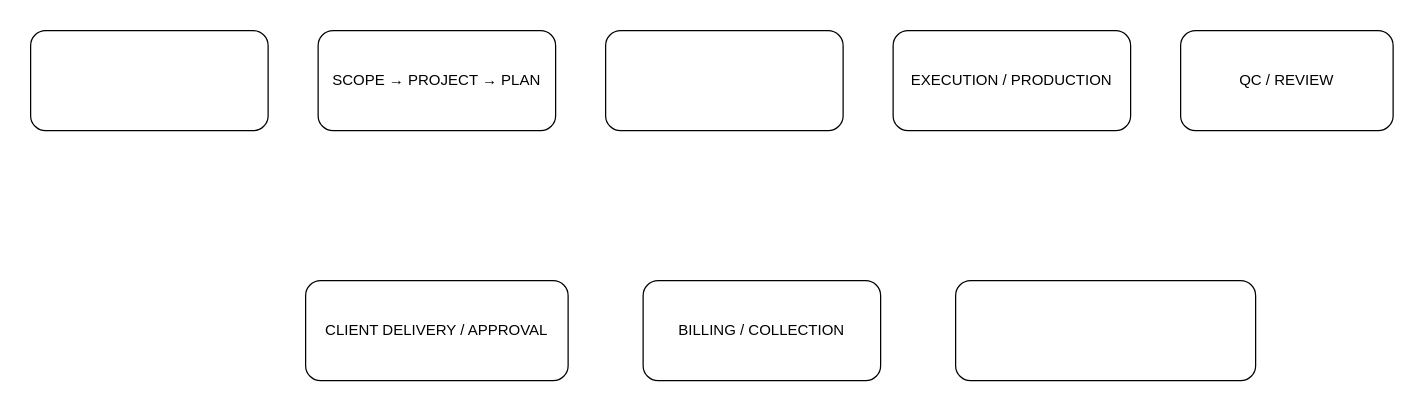
The diagram is 1415 pixels wide and 403 high, and some of its shapes have lost their labels. Each missing label, with the centre of its shape:
RETENTION / REPEAT / REFERRAL: pixel 1105 330
SIGNED CLIENT / ONBOARD: pixel 148 80
TASKS / ASSIGNMENTS: pixel 723 80
